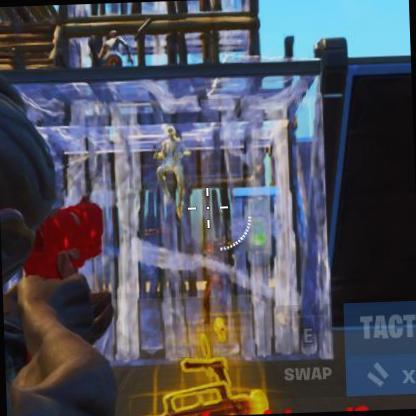person: (152, 128, 191, 212), (104, 30, 127, 72)
